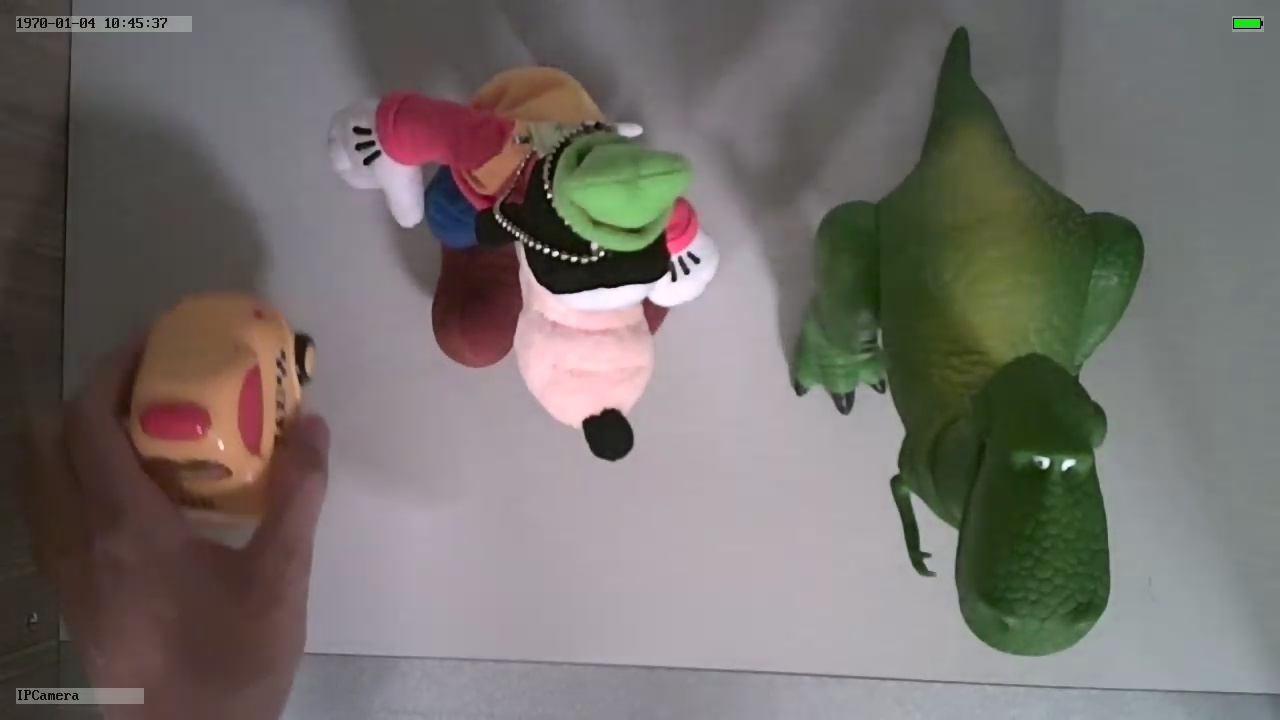goofy: (324, 62, 718, 459)
rex: (793, 102, 1143, 658)
